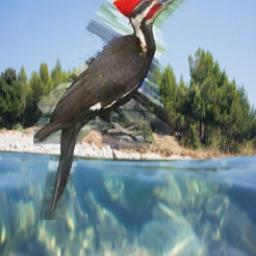Woodpecker: (33, 0, 189, 221)
